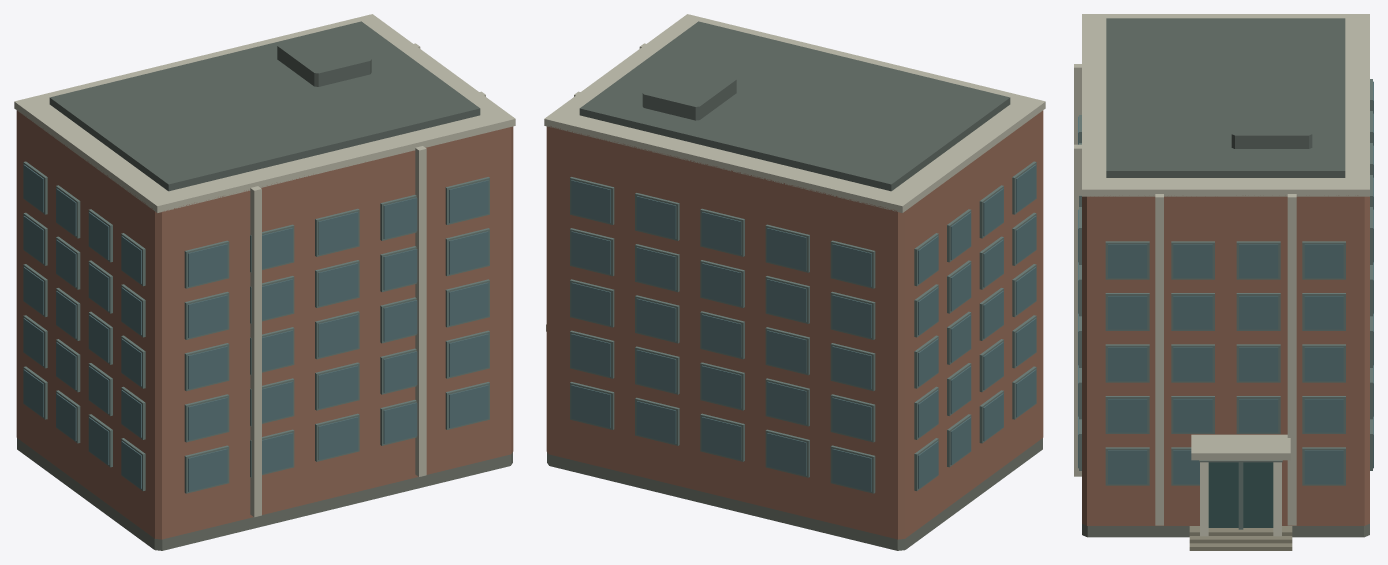
3 renders of one model, left to right at view 1: azimuth 30°, elevation 25°; view 2: azimuth 150°, elevation 25°; view 3: azimuth 270°, elevation 25°, orthographic.
Parts seen in each view (by area): view 1: form, glaze, relief, glowing; view 2: form, glaze, relief, glowing; view 3: form, glaze, relief, glowing.
Boxes of the visible parts, bbox=[...] form: form: bbox=[14, 14, 515, 550]; glaze: bbox=[23, 164, 488, 491]; relief: bbox=[23, 161, 489, 493]; glowing: bbox=[23, 249, 417, 488]; form: bbox=[544, 14, 1045, 550]; glaze: bbox=[571, 164, 1036, 491]; relief: bbox=[570, 161, 1036, 493]; glowing: bbox=[571, 216, 1036, 475]; form: bbox=[1074, 14, 1369, 550]; glaze: bbox=[1078, 81, 1373, 527]; relief: bbox=[1079, 79, 1372, 536]; glowing: bbox=[1108, 296, 1373, 484].
Size of the model in its own units: 14.54 by 12.71 by 9.37.
